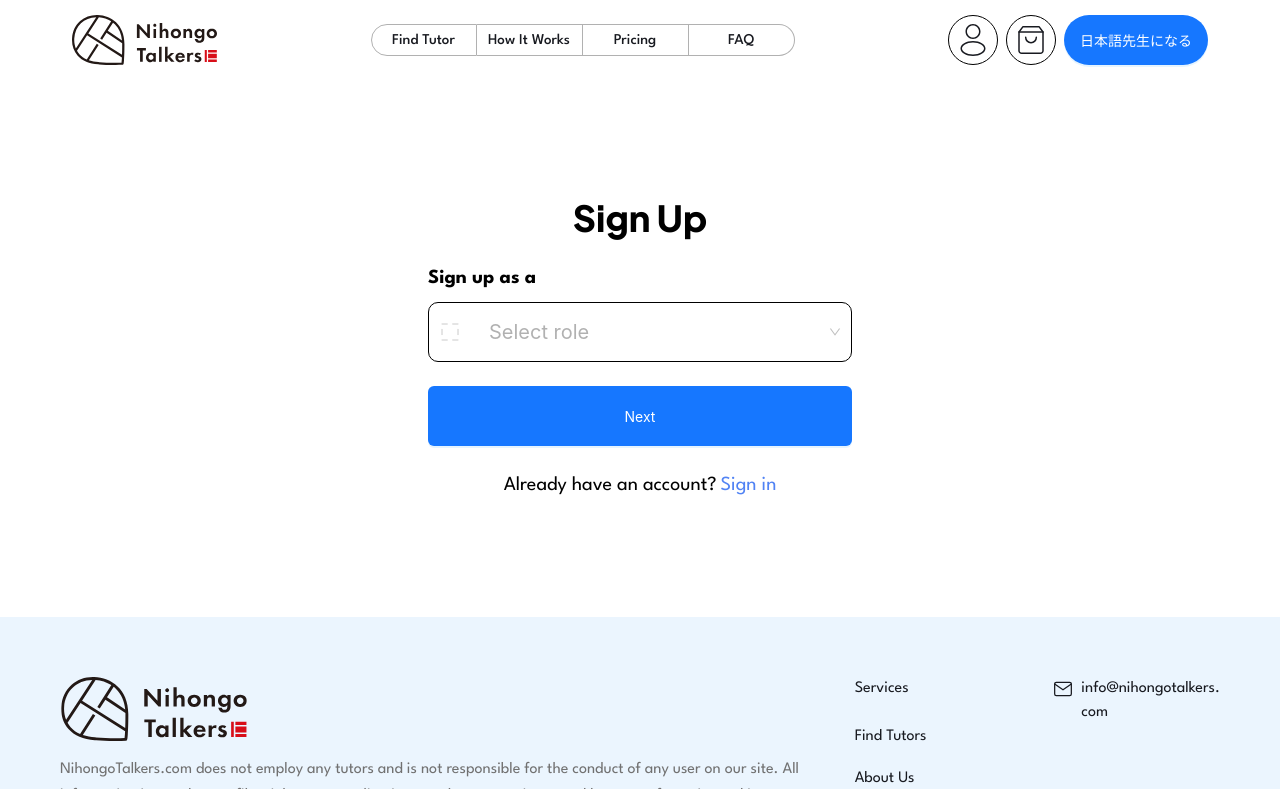
Authentication Flow › advances to step 2 after selecting "Student"
Click the element with class "role-selector".
click(640, 332)  # box [428,302,852,362]
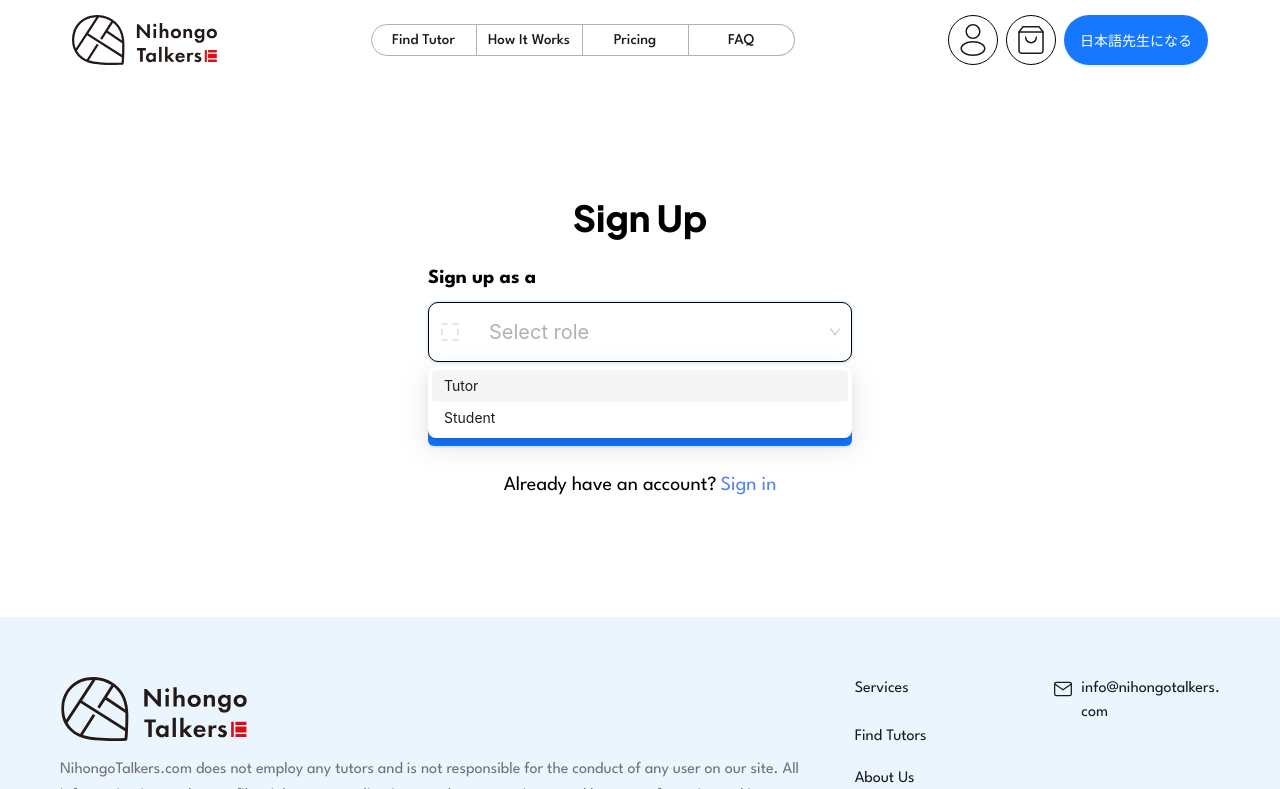
Click the text "Student".
click(470, 418)  # box [444,409,495,426]
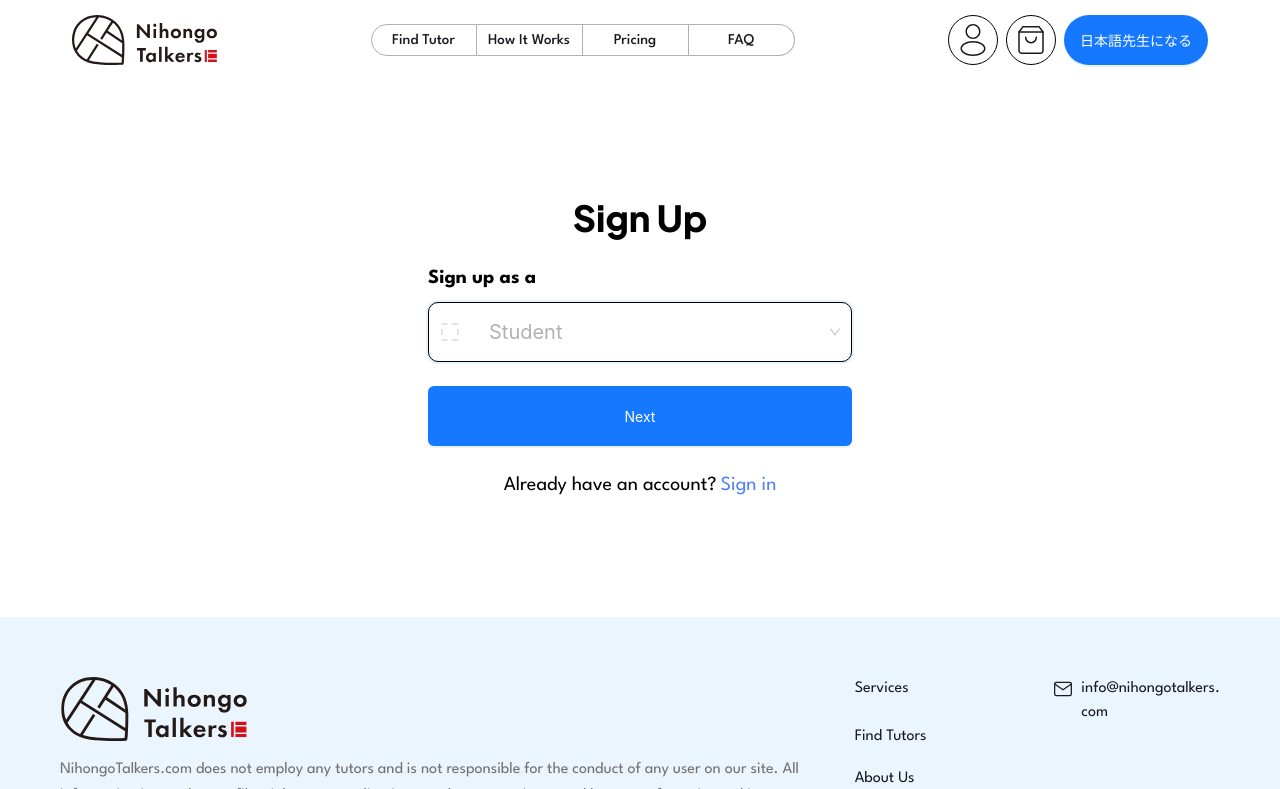
Click the button "Next".
click(640, 416)  # box [428,386,852,446]
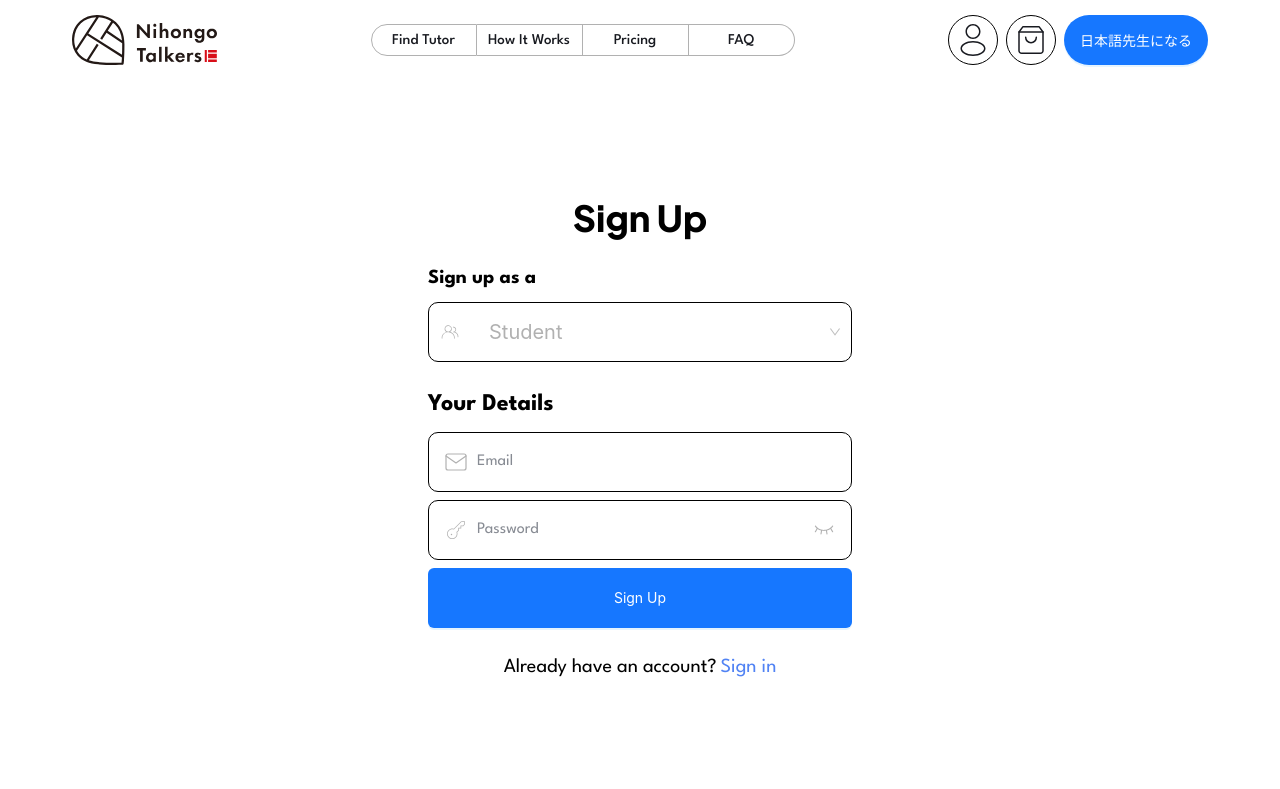
Check: the text "Your Details" is shown, box [428,393,554,415]
